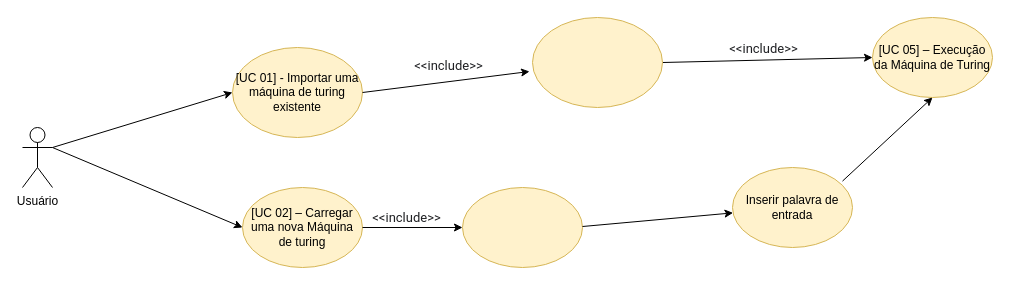
This 1010x285 diagram has some shape labels left out. Each missing label, with the centre of its shape:
[UC 03] – Configuração da Máquina de Turing sem um arquivo carregado: (x=522, y=227)
[UC 04] – Configuração da Máquina de Turing através de um arquivo.: (x=597, y=62)
